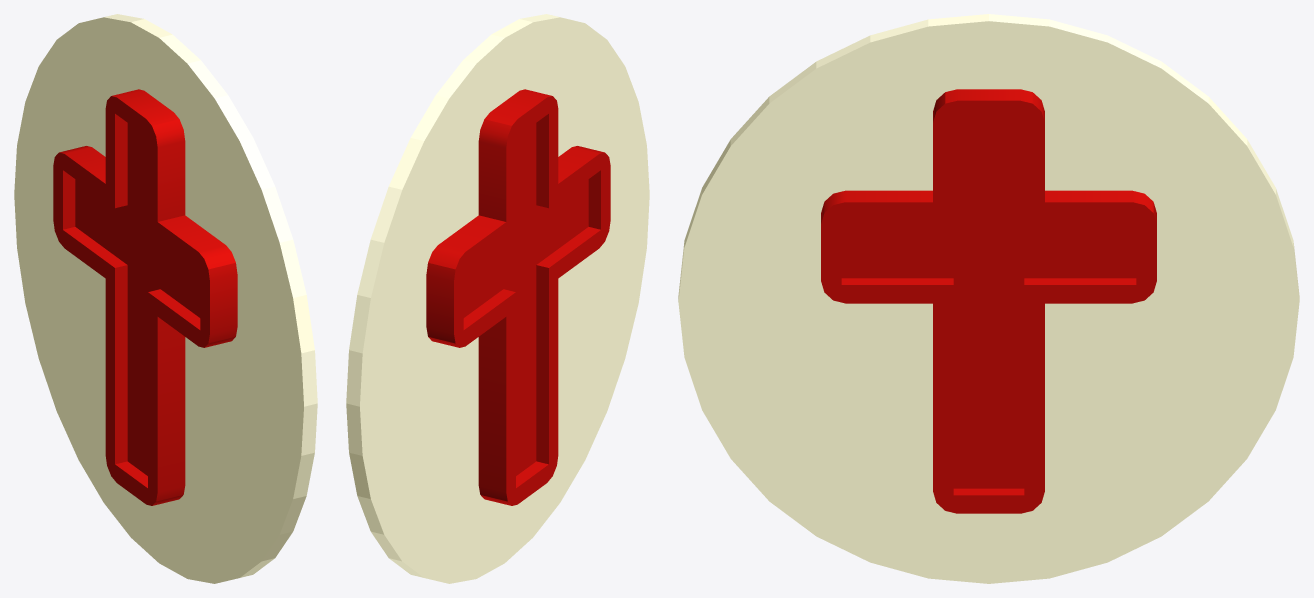
The picture shows the model from 3 angles, left to right: view 1: azimuth 30°, elevation 25°; view 2: azimuth 150°, elevation 25°; view 3: azimuth 270°, elevation 25°; orthographic projection. The views are drawn at different scales.
Visible parts, largest first — view 1: Circle, Cube; view 2: Circle, Cube; view 3: Circle, Cube.
Part boxes in pixels (x1,y1,x2,y2): Circle: [14, 14, 317, 583]; Cube: [53, 89, 237, 505]; Circle: [346, 14, 649, 583]; Cube: [426, 89, 610, 505]; Circle: [678, 14, 1299, 583]; Cube: [821, 89, 1156, 513].
Size of the model in its own units: 140 by 1111 by 1111.
